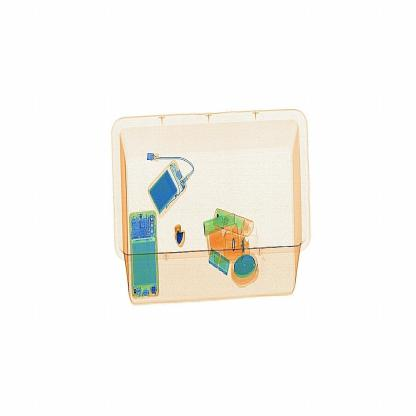wrench: (169, 214, 188, 256)
